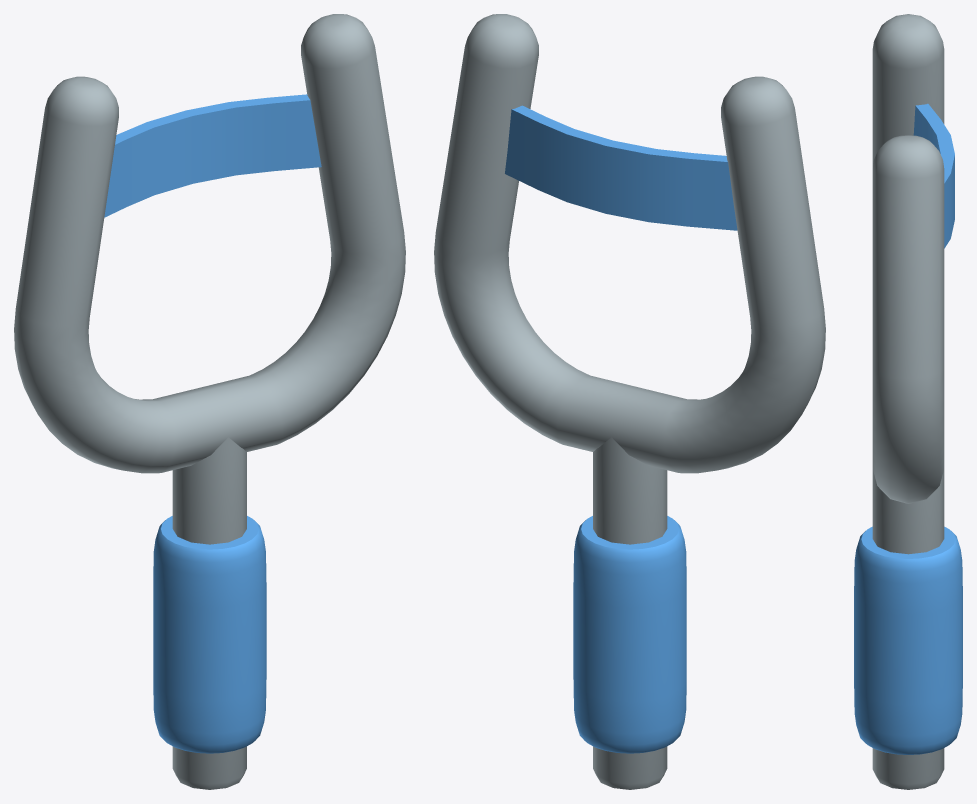
File: slingshot_teamBlue.glb
3 views of the same model, side by side, from view 1: azimuth 30°, elevation 25°; view 2: azimuth 150°, elevation 25°; view 3: azimuth 270°, elevation 25° (orthographic). The views are drawn at different scales.
Parts seen in each view (by area): view 1: slingshot_teamBlue; view 2: slingshot_teamBlue; view 3: slingshot_teamBlue.
Boxes of the visible parts, x1,y1,x2,y2 form: slingshot_teamBlue: [14, 14, 405, 789]; slingshot_teamBlue: [434, 14, 825, 789]; slingshot_teamBlue: [854, 14, 962, 789].
Size of the model in its own units: 0.2124 by 0.3872 by 0.0546.
